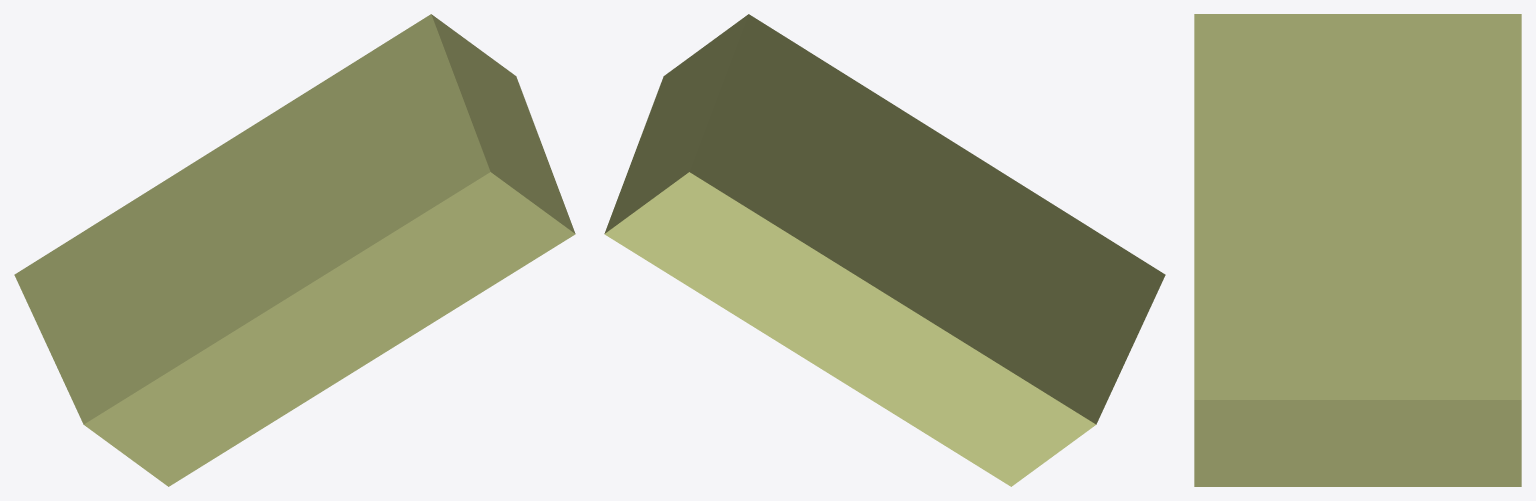
3 views of the same model, side by side, from view 1: azimuth 30°, elevation 25°; view 2: azimuth 150°, elevation 25°; view 3: azimuth 270°, elevation 25° (orthographic). The views are drawn at different scales.
Visible parts, largest first — view 1: 0_1_0_2_0_2_2_0_2; view 2: 0_1_0_2_0_2_2_0_2; view 3: 0_1_0_2_0_2_2_0_2.
Boxes of the visible parts, x1,y1,x2,y2 form: 0_1_0_2_0_2_2_0_2: [14, 14, 575, 486]; 0_1_0_2_0_2_2_0_2: [604, 14, 1165, 486]; 0_1_0_2_0_2_2_0_2: [1194, 14, 1521, 486].
Size of the model in its own units: 19.4 by 12.68 by 6.
